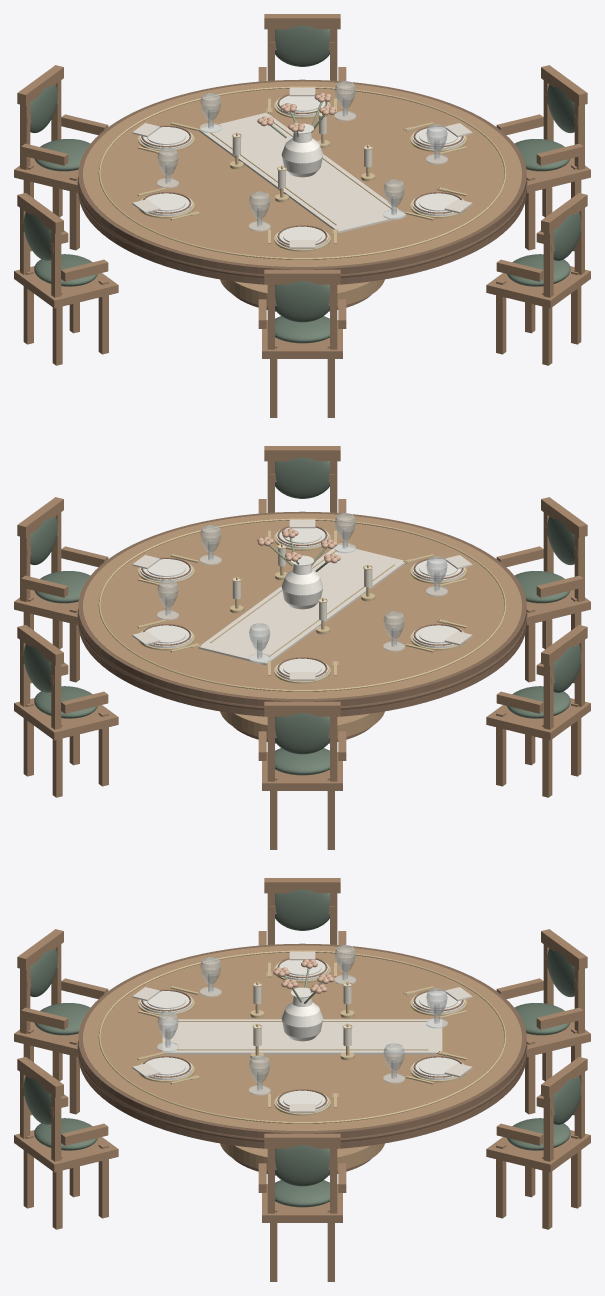
The model's file is serendipity-dining-table.glb.
3 renders of one model, top to bottom at view 1: azimuth 30°, elevation 25°; view 2: azimuth 150°, elevation 25°; view 3: azimuth 270°, elevation 25°, orthographic.
Parts seen in each view (by area): view 1: walnut_parts, chair_parts, velvet_parts, edge_parts, linen_parts, ceramic_parts, gold_parts, glass_parts, flower_parts, candle_parts; view 2: walnut_parts, chair_parts, velvet_parts, edge_parts, linen_parts, ceramic_parts, gold_parts, glass_parts, flower_parts, candle_parts; view 3: walnut_parts, chair_parts, velvet_parts, edge_parts, linen_parts, ceramic_parts, gold_parts, glass_parts, candle_parts, flower_parts.
Boxes of the visible parts, x1,y1,x2,y2 form: walnut_parts: (83,81,521,306); chair_parts: (14,14,590,417); velvet_parts: (23,25,581,343); edge_parts: (77,79,527,311); linen_parts: (132,87,472,248); ceramic_parts: (140,95,464,249); gold_parts: (98,86,506,259); glass_parts: (157,81,447,231); flower_parts: (257,92,335,132); candle_parts: (232,113,372,188); walnut_parts: (83,513,521,738); chair_parts: (14,446,590,849); velvet_parts: (23,457,581,775); edge_parts: (77,511,527,743); linen_parts: (132,519,472,680); ceramic_parts: (140,527,464,681); gold_parts: (98,518,506,691); glass_parts: (157,513,447,663); flower_parts: (257,528,340,563); candle_parts: (232,545,372,620); walnut_parts: (83,945,521,1170); chair_parts: (14,878,590,1281); velvet_parts: (23,889,581,1207); edge_parts: (77,943,527,1175); linen_parts: (132,951,472,1112); ceramic_parts: (140,959,464,1113); gold_parts: (98,950,506,1123); glass_parts: (157,945,447,1095); candle_parts: (253,983,351,1046); flower_parts: (273,959,333,993).
Size of the model in its own units: 5.36 by 1.73 by 4.99.
